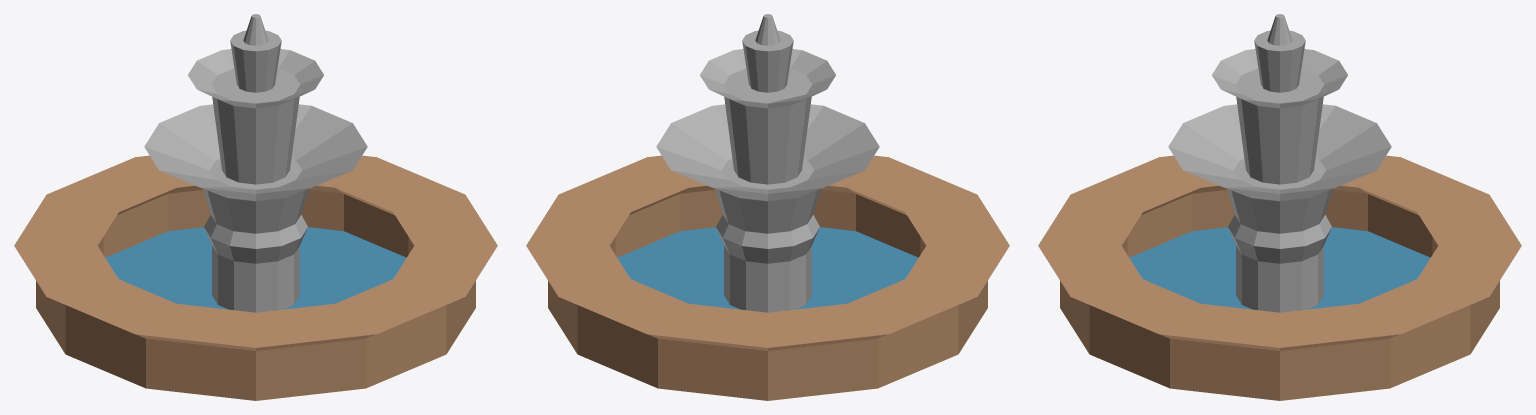
File: fountain.fbx
The picture shows the model from 3 angles, left to right: view 1: azimuth 30°, elevation 25°; view 2: azimuth 150°, elevation 25°; view 3: azimuth 270°, elevation 25°; orthographic projection.
Parts seen in each view (by area): view 1: Cylinder; view 2: Cylinder; view 3: Cylinder.
Boxes of the visible parts, bbox=[...] form: Cylinder: bbox=[14, 14, 497, 400]; Cylinder: bbox=[526, 14, 1009, 400]; Cylinder: bbox=[1038, 14, 1521, 400].
Bounding box in the file's own units: 880 × 586 × 880.
